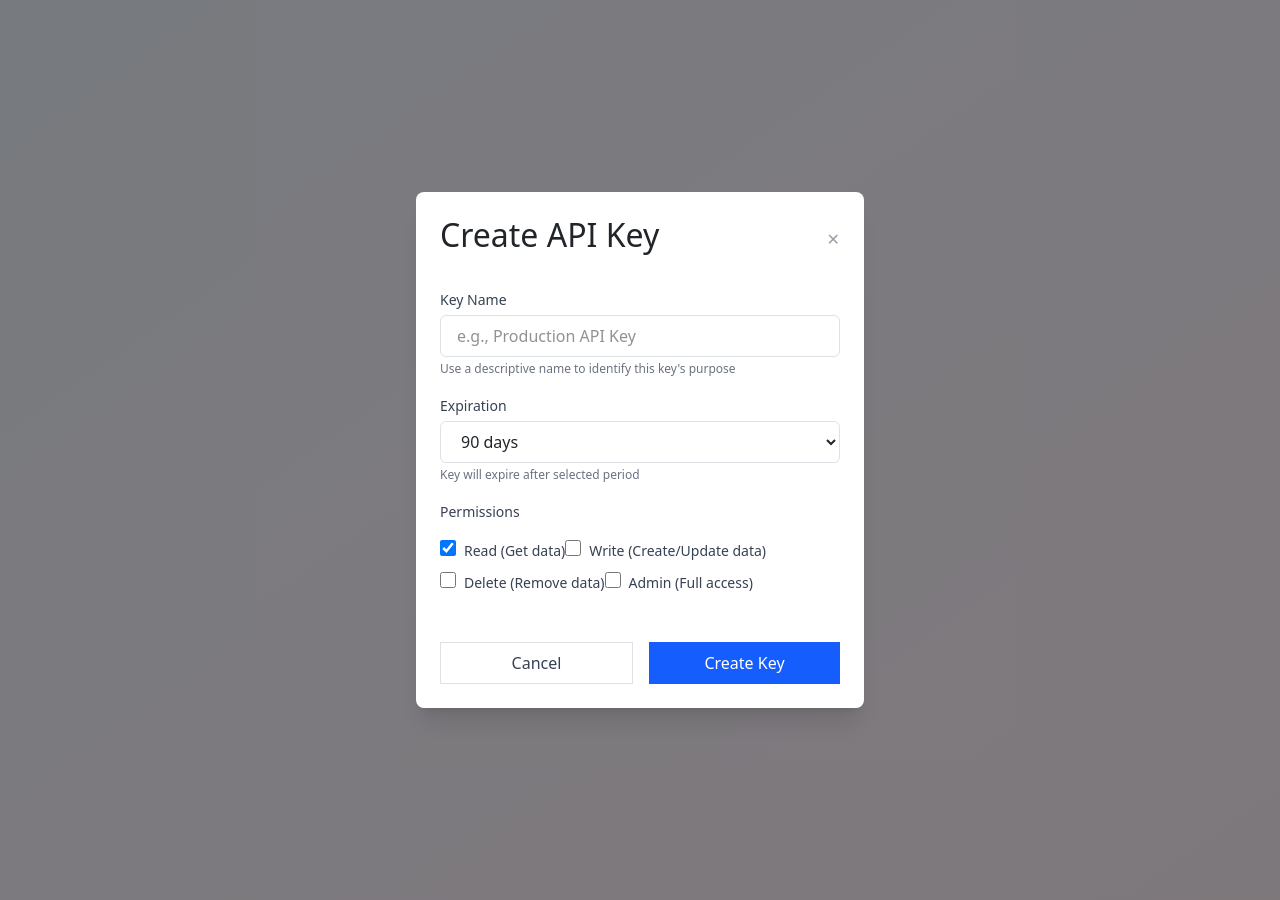
Test: Form Components › CreateApiKeyModal › should require key name
Click the button "Create Key".
click(744, 663)  # box [649, 642, 840, 684]
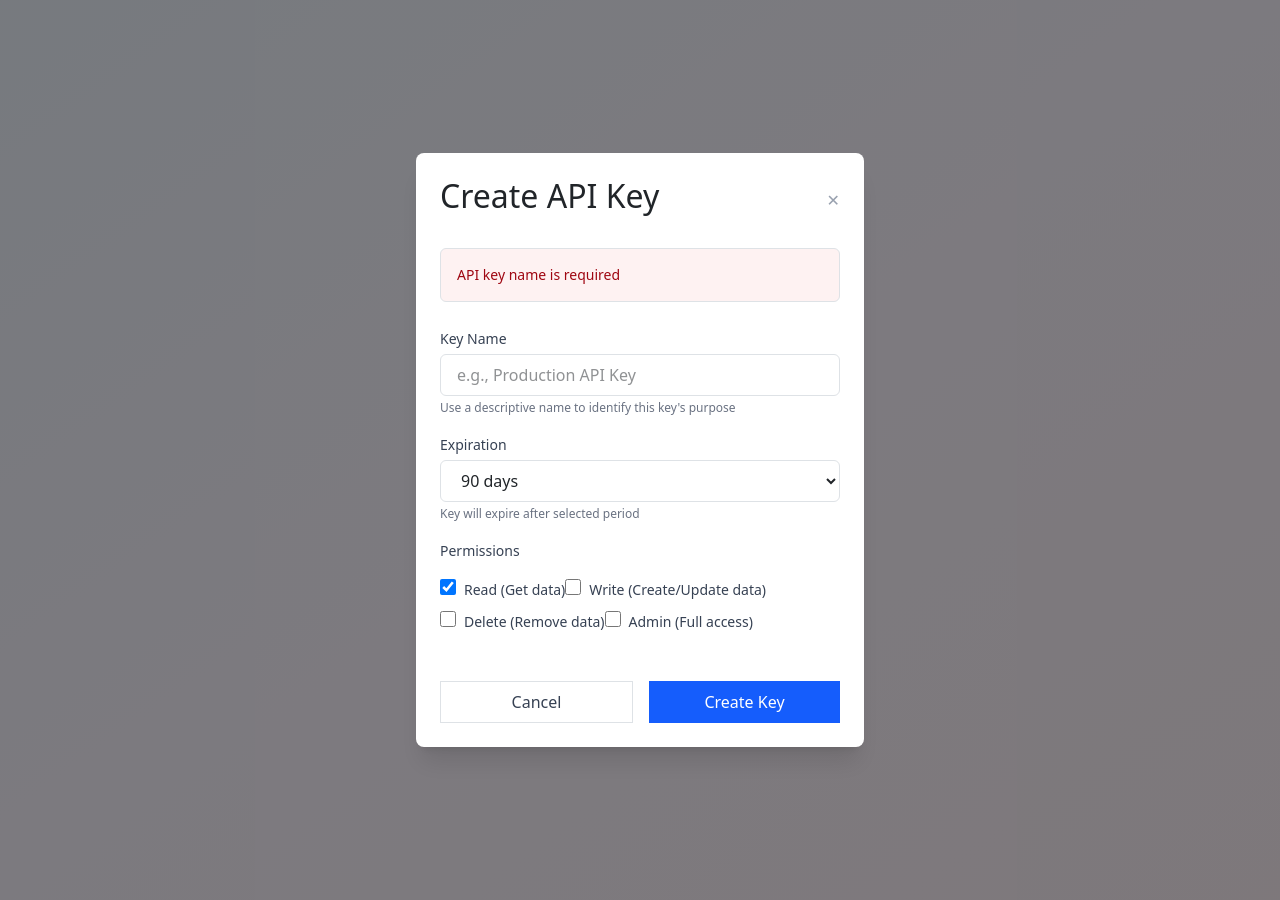
Check: the text "API key name is required" is shown, box [440, 248, 840, 302]
